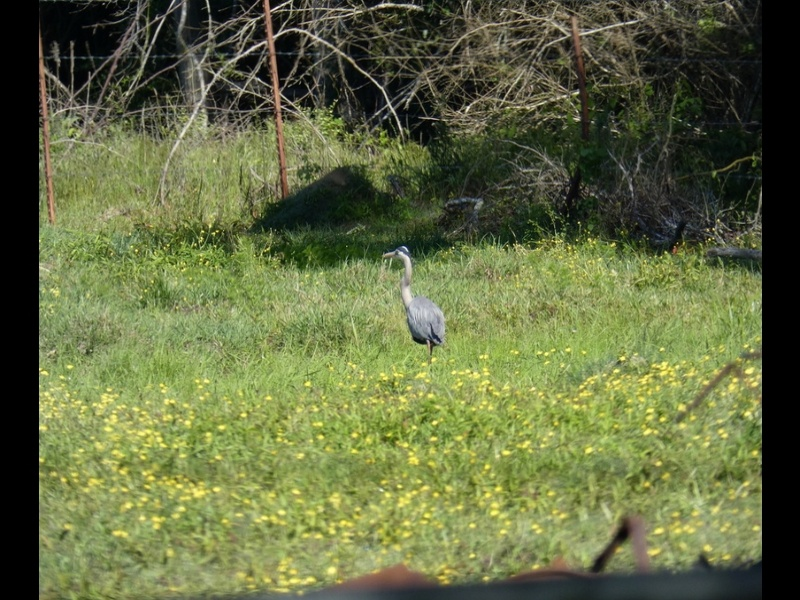heron: (379, 247, 449, 364)
